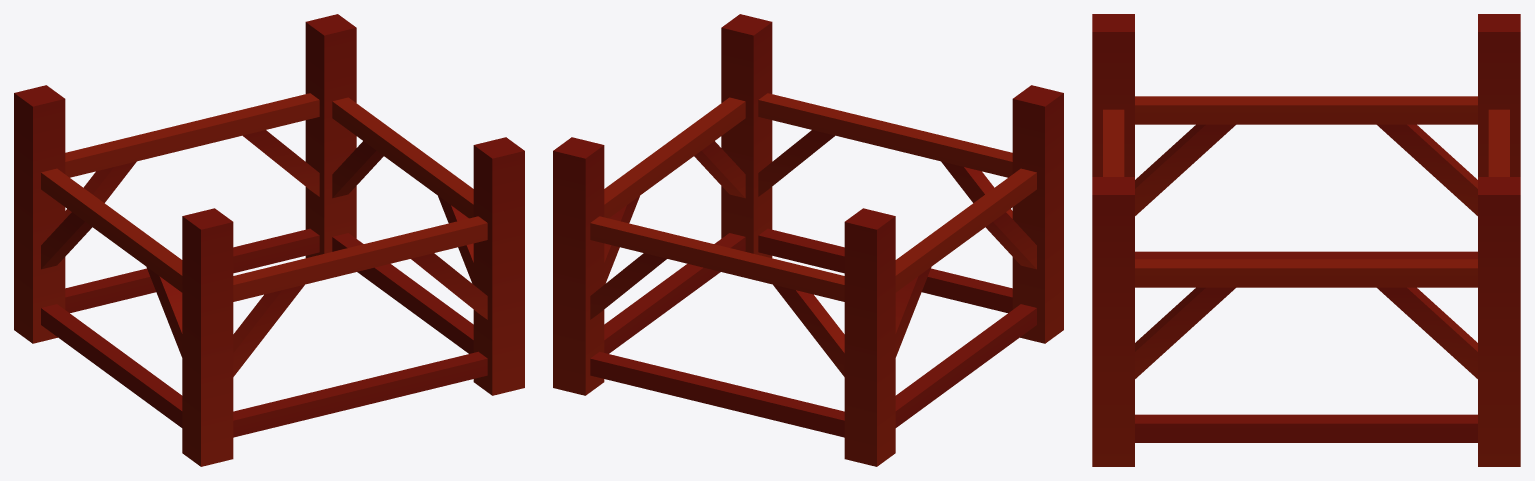
The model's file is structure-wood.fbx.
The picture shows the model from 3 angles, left to right: view 1: azimuth 30°, elevation 25°; view 2: azimuth 150°, elevation 25°; view 3: azimuth 270°, elevation 25°; orthographic projection. The views are drawn at different scales.
Parts seen in each view (by area): view 1: structure-wood; view 2: structure-wood; view 3: structure-wood.
Part boxes in pixels (x1,y1,x2,y2): structure-wood: (14, 14, 524, 466); structure-wood: (553, 14, 1063, 466); structure-wood: (1092, 14, 1520, 466).
Size of the model in its own units: 10 by 7 by 10.
